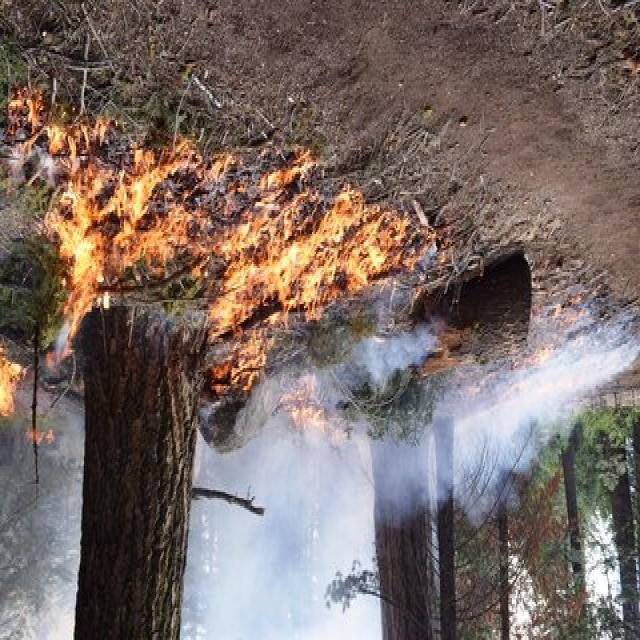fire: (5, 64, 452, 450)
